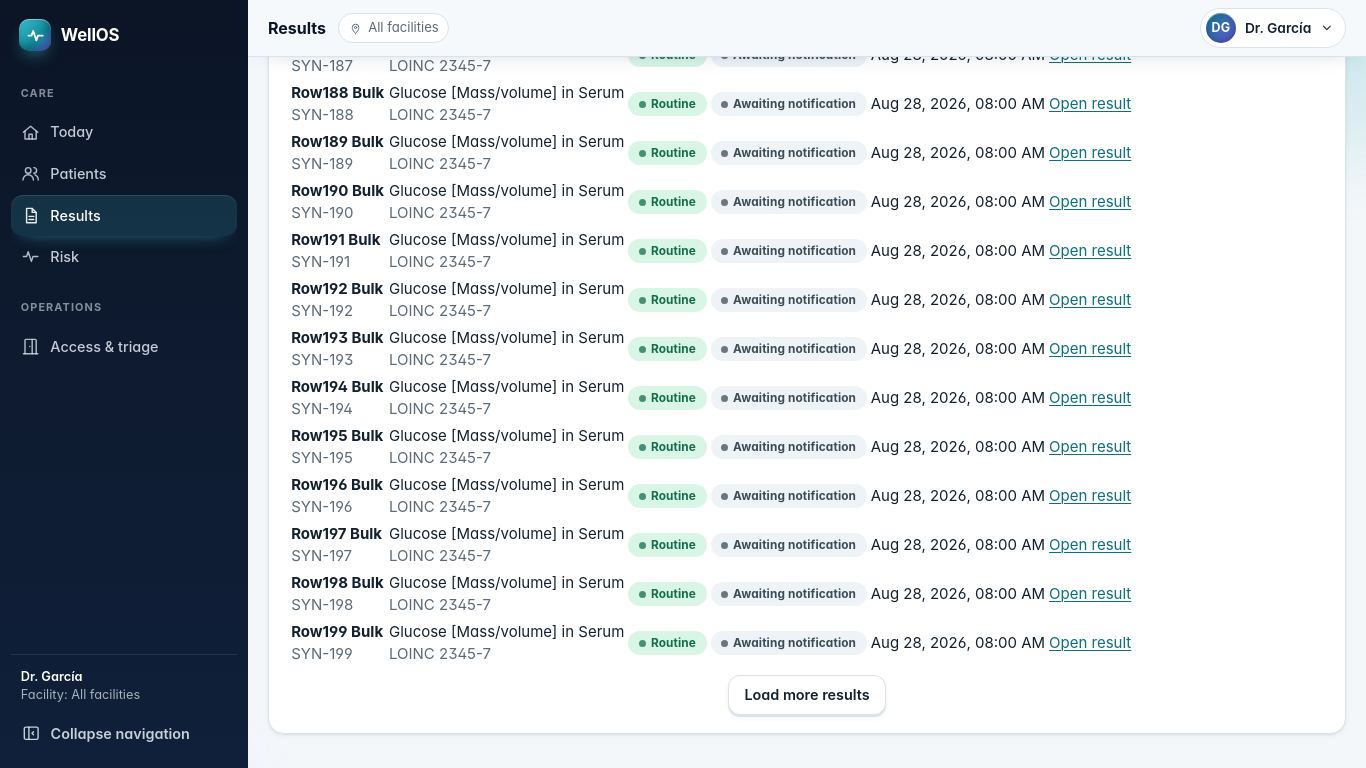
Scenario: results worklist › loads older results beyond the first page on demand
(page scrolled)
What coordinates should you click on to do the following:
click the button "Load more results"
I would click on:
 (807, 695)
Its box is [728, 675, 886, 715].
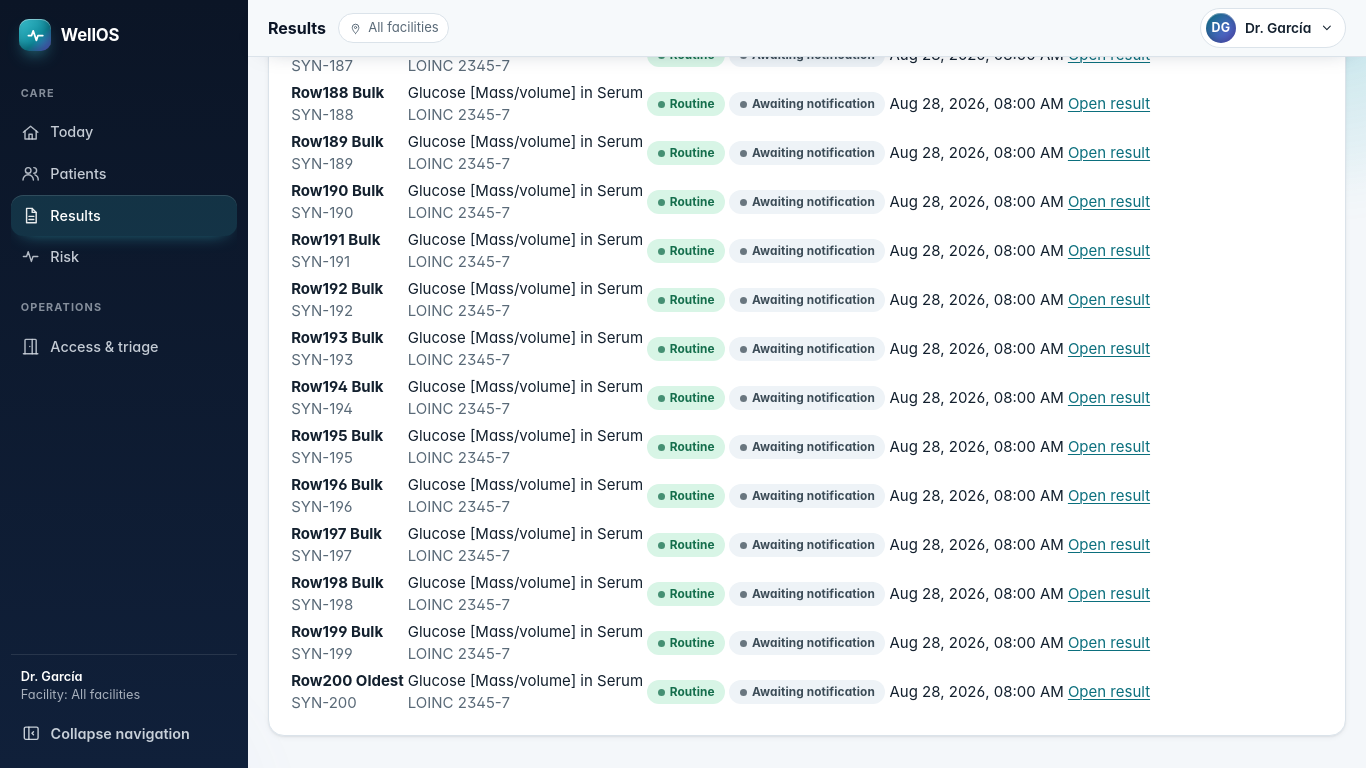
Check: the text "Row200 Oldest" is shown, box [291, 671, 404, 690]
Check: the button "Load more results" is gone
